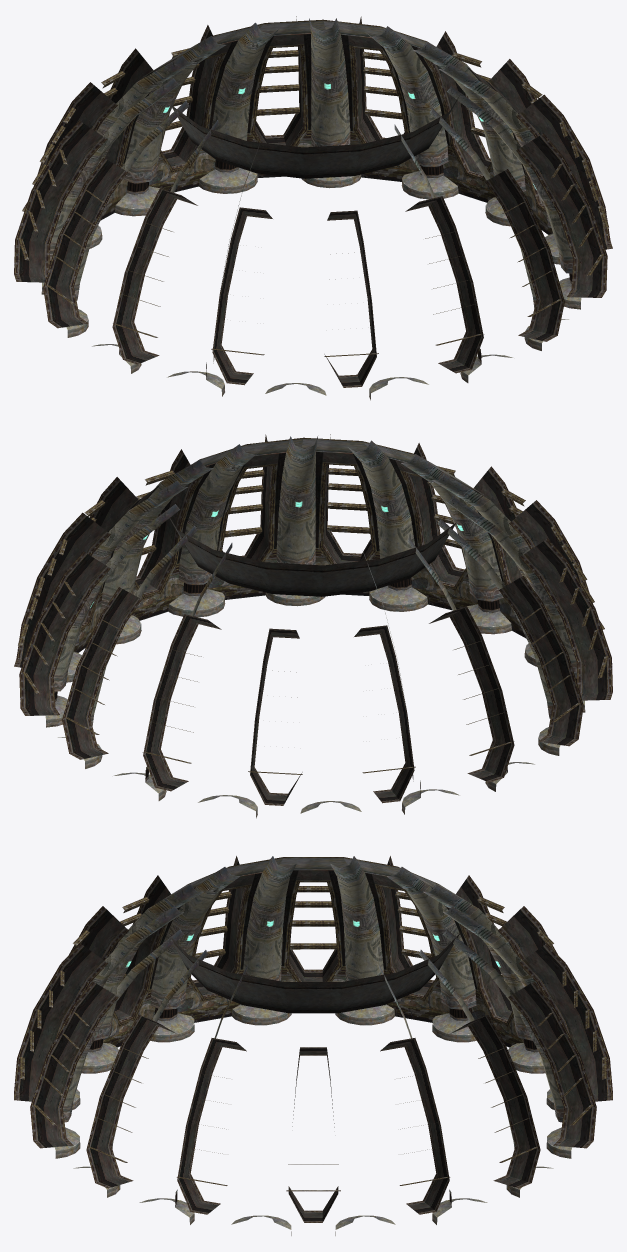
File: bel_arch_rakata_raid_infernal_room_ceiling.glb
The picture shows the model from 3 angles, top to bottom: view 1: azimuth 30°, elevation 25°; view 2: azimuth 150°, elevation 25°; view 3: azimuth 270°, elevation 25°; orthographic projection.
Visible parts, largest first — view 1: bel_arch_rakata_raid_infernal_room_ceiling12, NGon54, NGon52, NGon53, NGon51, NGon55, NGon57, NGon49, NGon56, NGon50, NGon48, NGon42 (+2 smaller); view 2: bel_arch_rakata_raid_infernal_room_ceiling12, NGon57, NGon43, NGon42, NGon44, NGon56, NGon54, NGon46, NGon55, NGon45, NGon47, NGon53 (+2 smaller); view 3: bel_arch_rakata_raid_infernal_room_ceiling12, NGon47, NGon48, NGon46, NGon49, NGon45, NGon50, NGon52, NGon43, NGon51, NGon44, NGon53 (+1 smaller).
Boxes of the visible parts, bbox=[...] form: bel_arch_rakata_raid_infernal_room_ceiling12: bbox=[14, 16, 612, 387]; NGon54: bbox=[366, 26, 458, 199]; NGon52: bbox=[199, 22, 278, 193]; NGon53: bbox=[301, 18, 361, 188]; NGon51: bbox=[115, 36, 225, 216]; NGon55: bbox=[413, 42, 525, 226]; NGon57: bbox=[446, 86, 581, 309]; NGon49: bbox=[41, 78, 180, 294]; NGon56: bbox=[439, 63, 560, 264]; NGon50: bbox=[89, 55, 194, 248]; NGon48: bbox=[66, 101, 189, 337]; NGon42: bbox=[429, 107, 568, 350]; bel_arch_rakata_raid_infernal_room_ceiling12: bbox=[14, 434, 612, 805]; NGon57: bbox=[168, 444, 259, 617]; NGon43: bbox=[348, 440, 427, 611]; NGon42: bbox=[265, 436, 325, 606]; NGon44: bbox=[401, 454, 511, 634]; NGon56: bbox=[101, 460, 213, 644]; NGon54: bbox=[45, 504, 180, 727]; NGon46: bbox=[446, 496, 585, 712]; NGon55: bbox=[66, 481, 187, 682]; NGon45: bbox=[432, 473, 537, 666]; NGon47: bbox=[437, 519, 560, 755]; NGon53: bbox=[58, 525, 197, 768]; bel_arch_rakata_raid_infernal_room_ceiling12: bbox=[14, 856, 612, 1222]; NGon47: bbox=[232, 856, 296, 1025]; NGon48: bbox=[330, 856, 394, 1025]; NGon46: bbox=[150, 867, 239, 1042]; NGon49: bbox=[387, 867, 476, 1042]; NGon45: bbox=[81, 884, 203, 1073]; NGon50: bbox=[423, 884, 545, 1073]; NGon52: bbox=[442, 929, 572, 1158]; NGon43: bbox=[54, 929, 184, 1158]; NGon51: bbox=[443, 906, 554, 1110]; NGon44: bbox=[72, 906, 183, 1110]; NGon53: bbox=[419, 950, 553, 1197].
Bounding box in the file's own units: 13.25 × 5.17 × 13.25.
5 materials, 5 textured.
